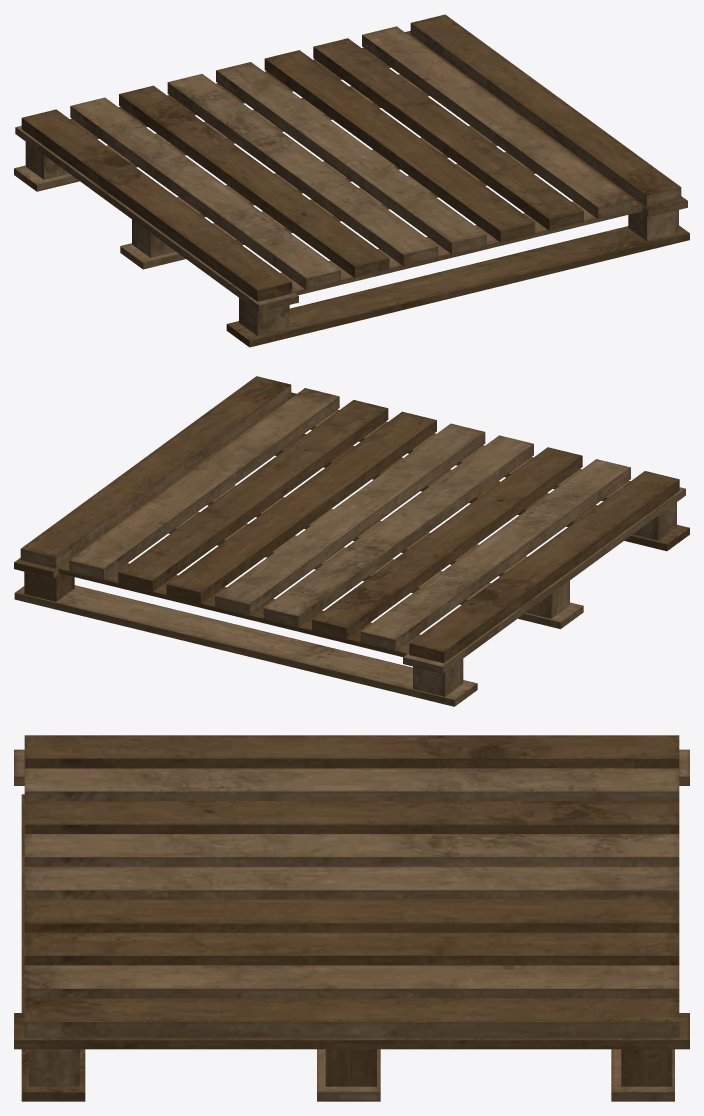
File: pallet.glb
3 views of the same model, one above another, from view 1: azimuth 30°, elevation 25°; view 2: azimuth 150°, elevation 25°; view 3: azimuth 270°, elevation 25° (orthographic). The views are drawn at different scales.
Parts seen in each view (by area): view 1: wood_pallet_low__0; view 2: wood_pallet_low__0; view 3: wood_pallet_low__0.
Part boxes in pixels (x1,y1,x2,y2): wood_pallet_low__0: [14, 14, 689, 347]; wood_pallet_low__0: [14, 376, 689, 706]; wood_pallet_low__0: [14, 735, 689, 1101].
Size of the model in its own units: 2.15 by 0.252 by 2.07.
Materials: 1 (1 with a texture image).
